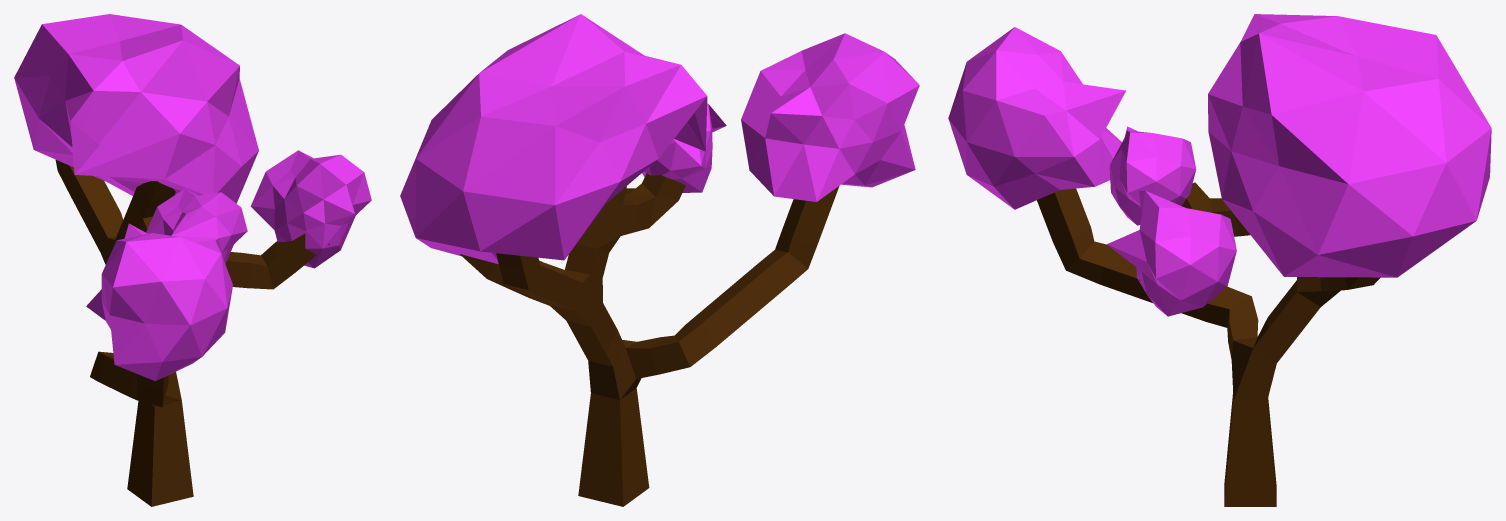
File: Pink Tree.fbx
3 renders of one model, left to right at view 1: azimuth 30°, elevation 25°; view 2: azimuth 150°, elevation 25°; view 3: azimuth 270°, elevation 25°, orthographic. The views are drawn at different scales.
Parts seen in each view (by area): view 1: Icosphere.003, Icosphere, Vert, Icosphere.002, Icosphere.001; view 2: Icosphere.003, Vert, Icosphere, Icosphere.001; view 3: Icosphere.003, Icosphere, Vert, Icosphere.002, Icosphere.001.
Boxes of the visible parts, x1,y1,x2,y2 form: Icosphere.003: (14, 14, 258, 203); Icosphere: (86, 223, 232, 381); Vert: (55, 160, 329, 506); Icosphere.002: (250, 150, 371, 268); Icosphere.001: (146, 188, 247, 263); Icosphere.003: (400, 14, 707, 264); Vert: (460, 173, 839, 506); Icosphere: (741, 33, 919, 201); Icosphere.001: (642, 103, 726, 192); Icosphere.003: (1208, 14, 1491, 277); Icosphere: (948, 27, 1125, 209); Vert: (1037, 182, 1380, 506); Icosphere.002: (1107, 190, 1236, 316); Icosphere.001: (1109, 126, 1196, 225).
Size of the model in its own units: 715 by 906 by 936.
